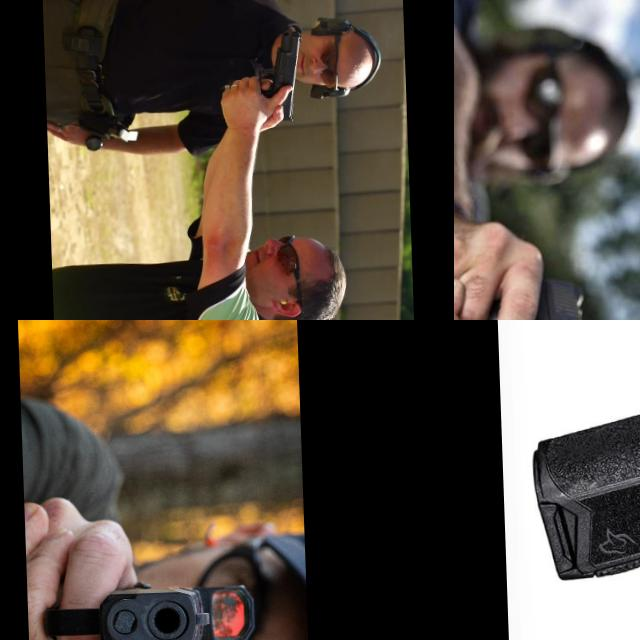handgun: (517, 320, 640, 585), (40, 575, 260, 640), (461, 270, 614, 320), (253, 27, 307, 125)
